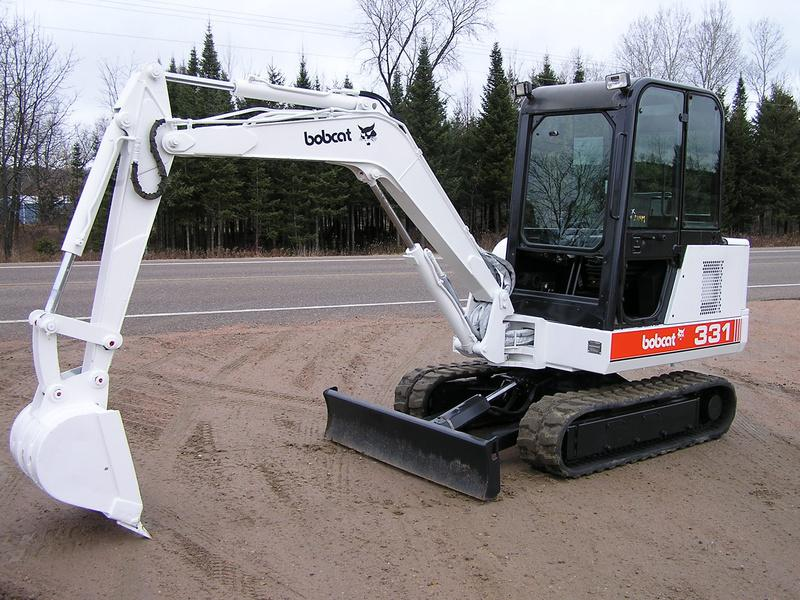shovel: (8, 58, 755, 545)
